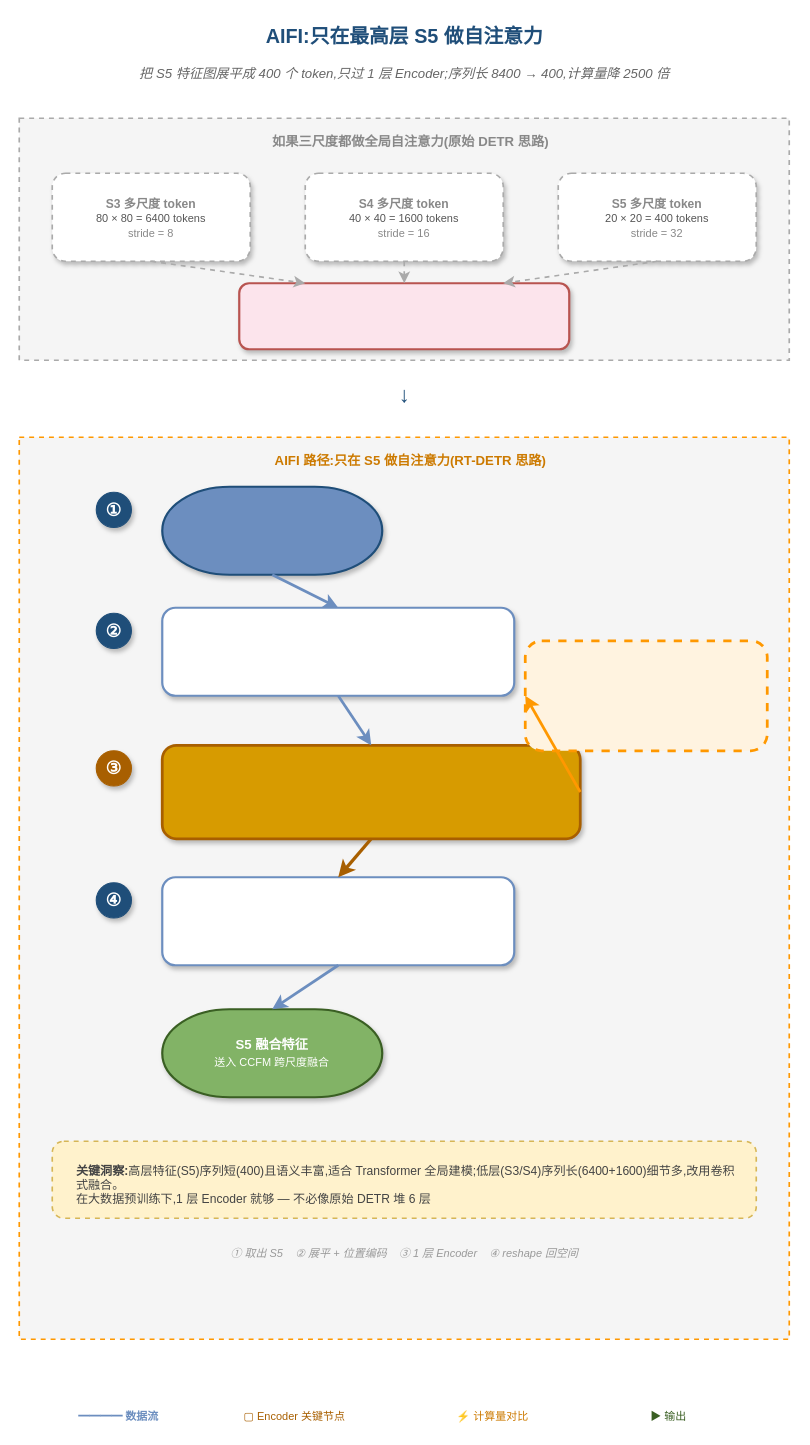
Image size: 810x1445. Some labels were removed from this diagram. The shapes that lost their labels are listed below. From the top down, each one's centre as x and y in pixels, then its label:
At [404,317]: "合计 8400 tokens 6 层自注意力 ≈ 1.0 × 10¹¹ 次乘加 完全无法实时".
At [272,532]: "S5 特征图 Backbone stride=32 输出 20 × 20 × 256".
At [338,653]: "展平 + 位置编码 空间维度展平 + 转置 + sin/cos PE → 400 × 256 token 序列".
At [645,695]: "序列长度 8400 → 400 Encoder 自注意力计算量降 2500 倍 1.0 × 10¹¹ → 4 × 10⁷ 次乘加".
At [372,793]: "Transformer Encoder Layer Multi-Head Self-Attention + FFN 只需 1 层就够(不像 DETR 6 层)".
At [338,922]: "Reshape 回空间特征图 400 tokens → 2D 空间布局 → 20 × 20 × 256".
